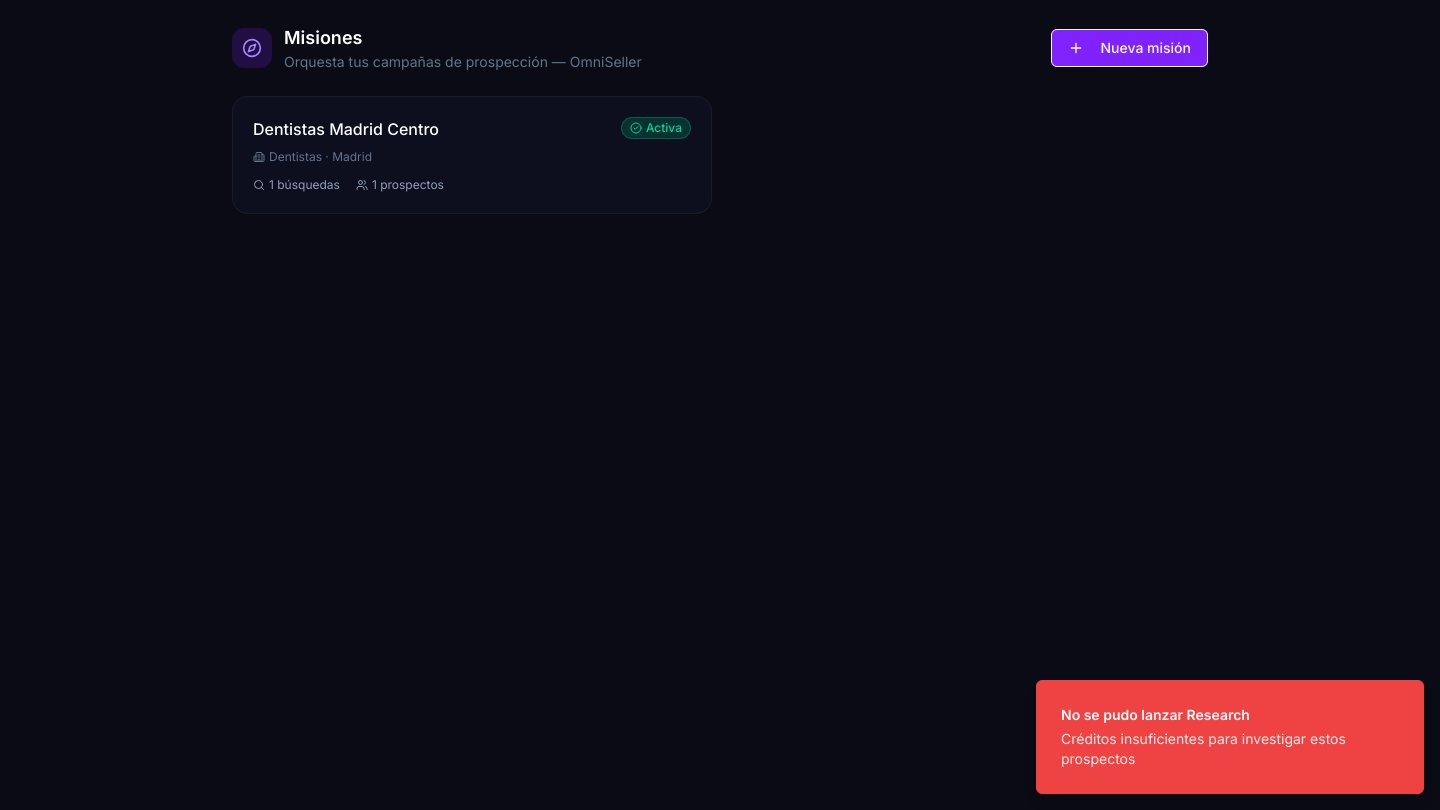
Research › 9. muestra los prospectos con su oportunidad tras analizarlos
Click the text "Dentistas Madrid Centro". click: (346, 129)
box: [253,117,439,141]
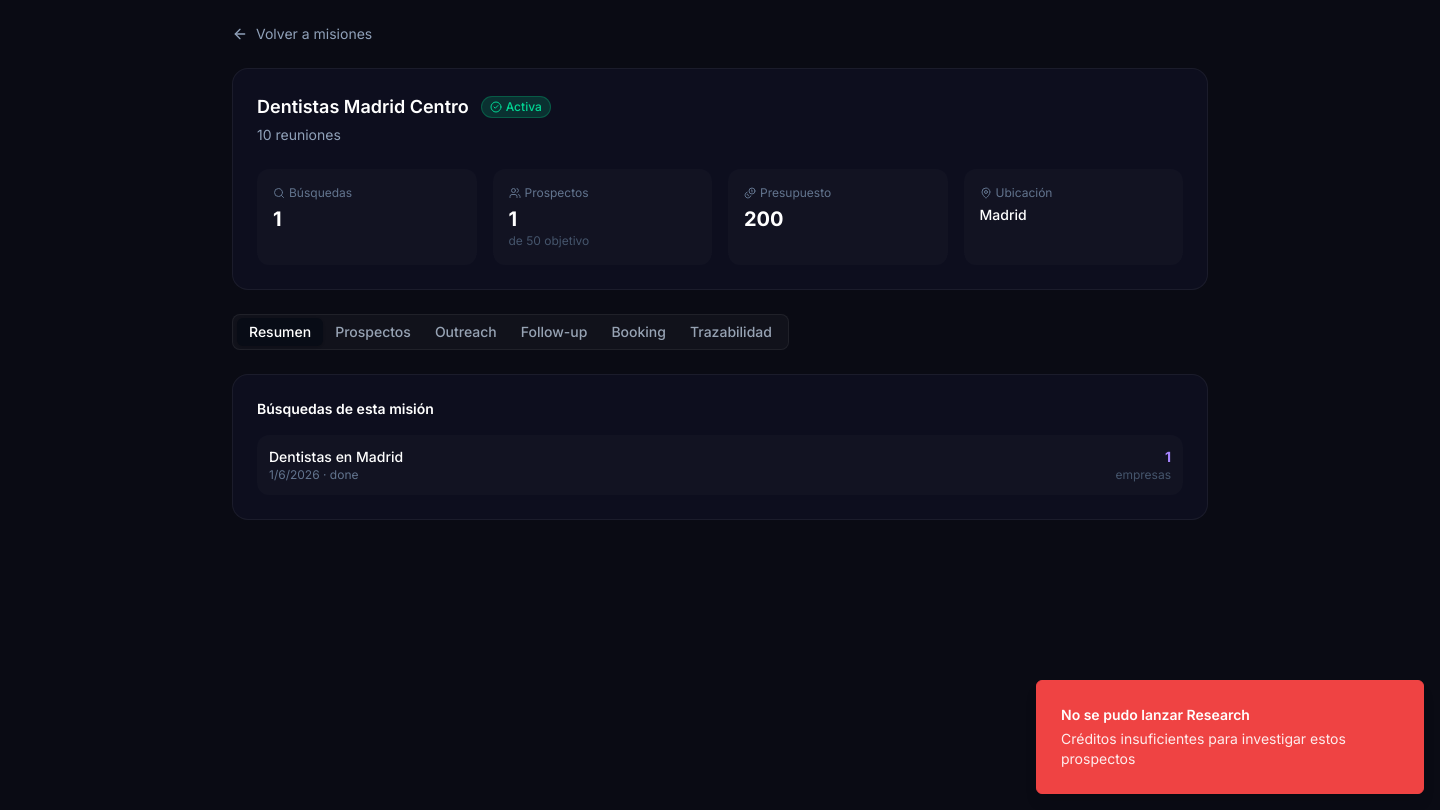
Check: the heading "Búsquedas de esta misión" is shown, box [257,400,434,417]
Press the mouse on the tab with test id "tab-prospectos" at (373, 332), box [323,318,423,346]
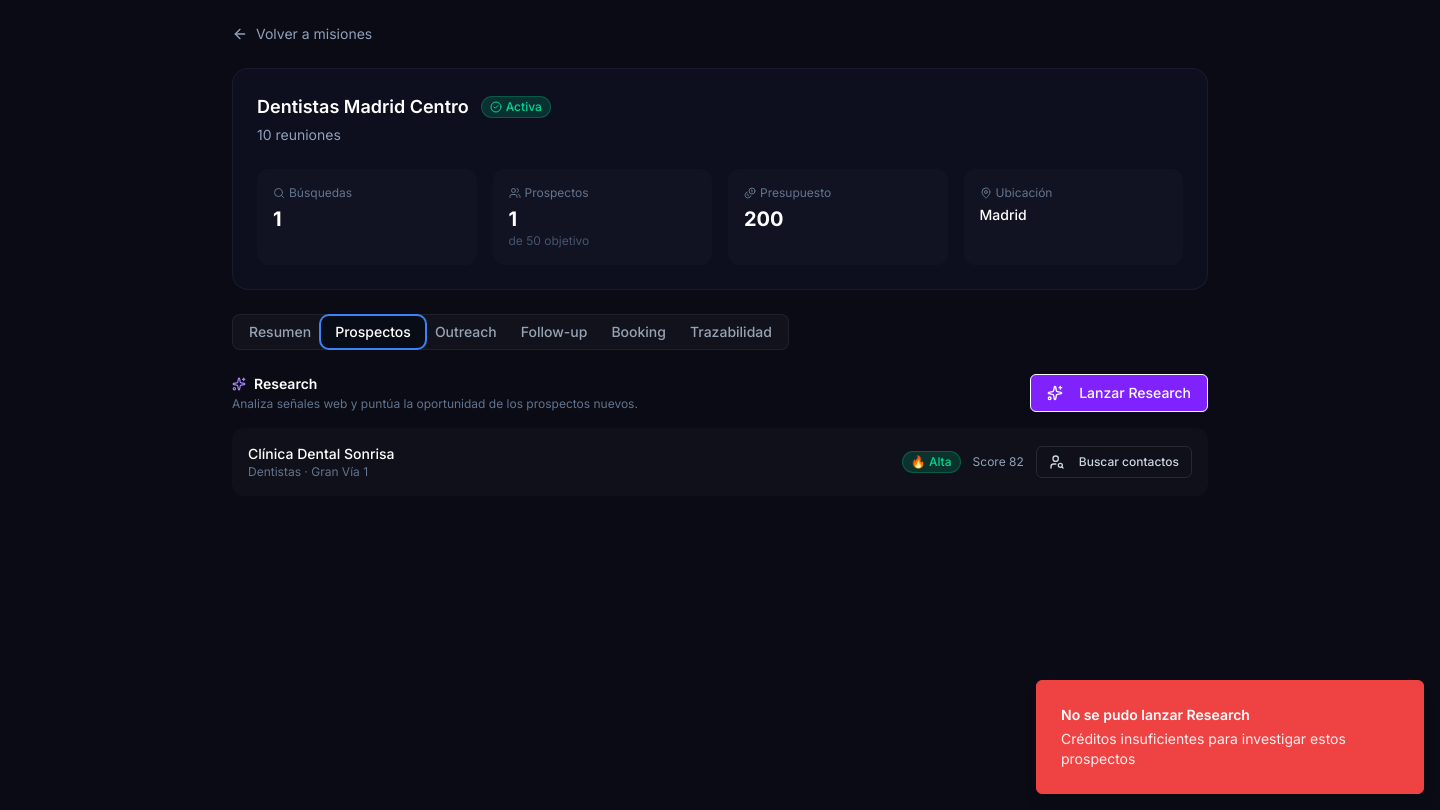
Check: the text "Clínica Dental Sonrisa" is shown, box [248,444,394,464]
Check: the text "🔥 Alta" is shown, box [902,451,960,473]
Check: the text "Score 82" is shown, box [973,454,1024,470]
